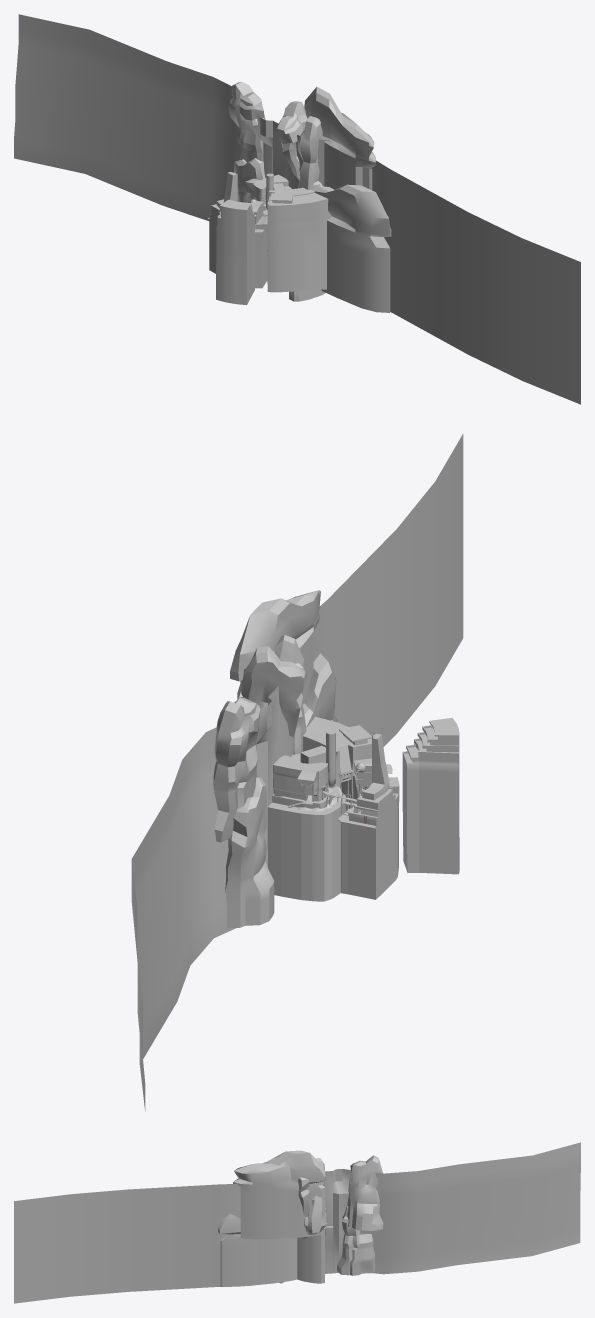
The model's file is StLucia_00_Bock_00.fbx.
3 renders of one model, top to bottom at view 1: azimuth 30°, elevation 25°; view 2: azimuth 150°, elevation 25°; view 3: azimuth 270°, elevation 25°, orthographic. The views are drawn at different scales.
Visible parts, largest first — view 1: cliff, cliff.001, StLucia_00_Bock_00, SM_CastInSitu_04, SM_CastInSitu_00, SM_CastInSitu_05; view 2: cliff, cliff.001, SM_CastInSitu_05, SM_CastInSitu_04, SM_CastInSitu_00, StLucia_00_Bock_00, SM_CastInSitu_01; view 3: cliff, cliff.001.
Part boxes in pixels (left/top/right/bottom): cliff: left=14, top=14, right=580, bottom=404; cliff.001: left=228, top=81, right=391, bottom=312; StLucia_00_Bock_00: left=266, top=173, right=331, bottom=292; SM_CastInSitu_04: left=216, top=199, right=254, bottom=305; SM_CastInSitu_00: left=207, top=204, right=267, bottom=288; SM_CastInSitu_05: left=245, top=174, right=291, bottom=216; cliff: left=131, top=434, right=463, bottom=1111; cliff.001: left=213, top=590, right=337, bottom=927; SM_CastInSitu_05: left=267, top=745, right=346, bottom=901; SM_CastInSitu_04: left=402, top=717, right=459, bottom=874; SM_CastInSitu_00: left=338, top=788, right=399, bottom=899; StLucia_00_Bock_00: left=303, top=716, right=371, bottom=810; SM_CastInSitu_01: left=362, top=733, right=389, bottom=800; cliff: left=14, top=1142, right=580, bottom=1303; cliff.001: left=218, top=1150, right=383, bottom=1287.
Bounding box in the file's own units: 19998 × 19666 × 75539.
